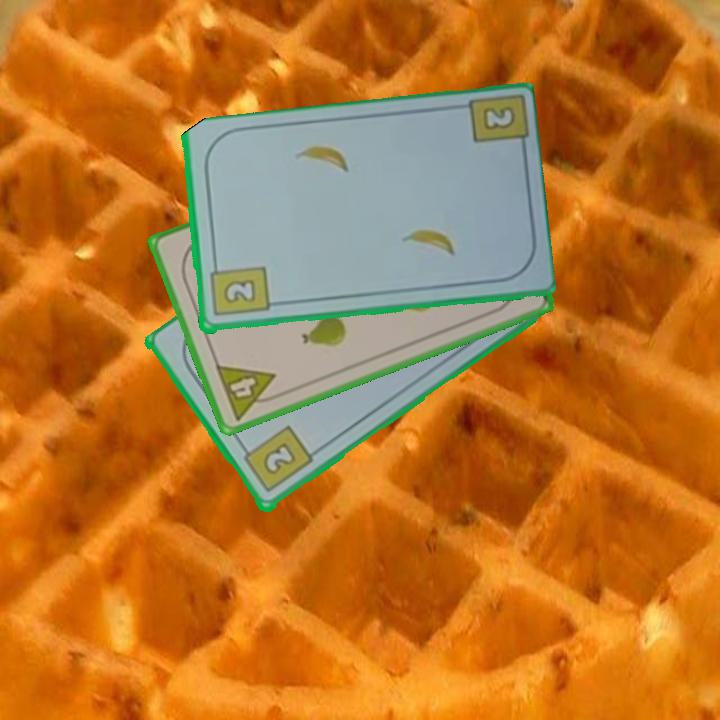2b: (236, 423, 316, 496), (206, 258, 271, 320), (478, 102, 518, 134)
4p: (211, 361, 285, 423)
